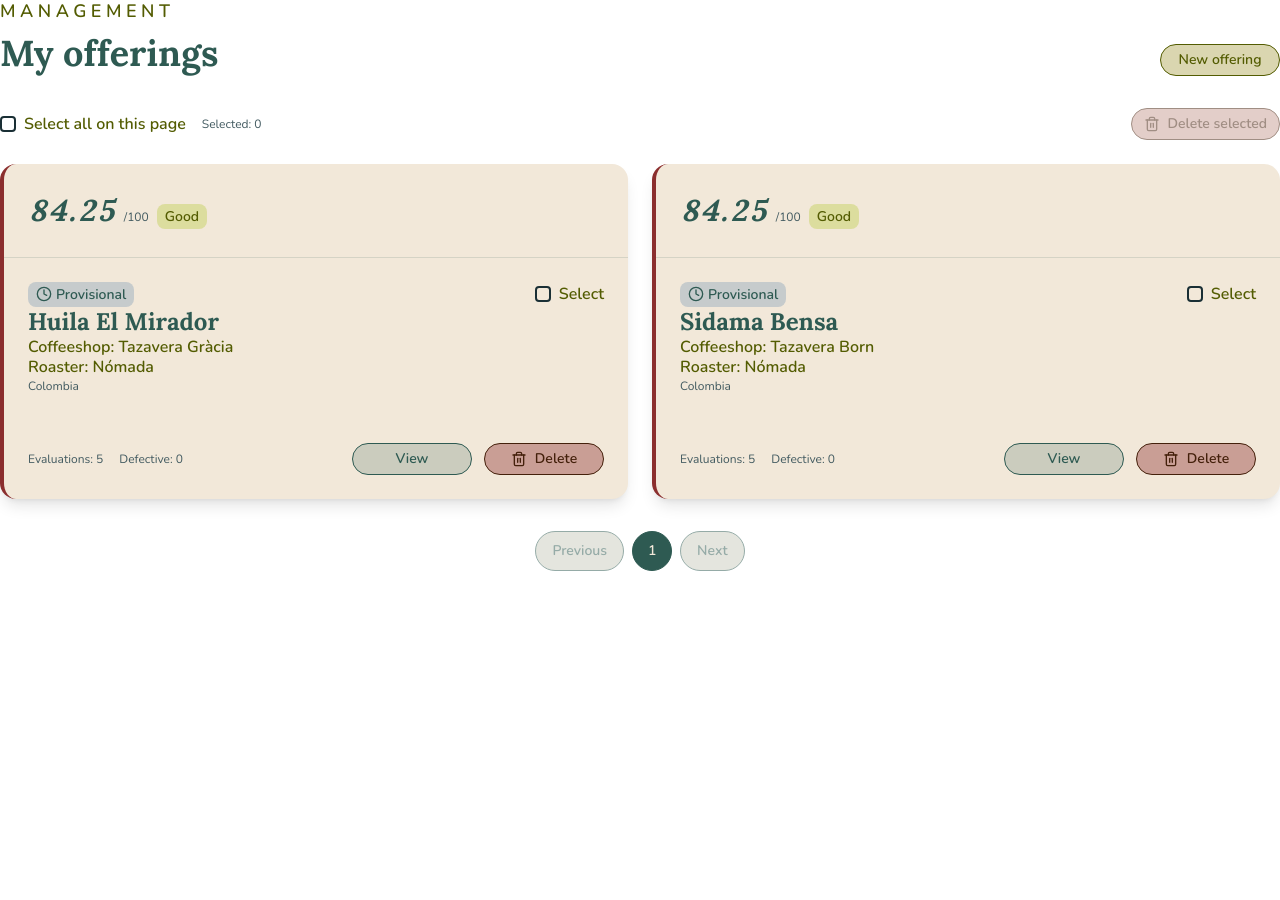
Test: ManageOfferingsPanel — deleting (spec 'Deleting offerings') › deletes the selection after confirmation, announces its count and empties the selection
Click the checkbox labelled "Select all on this page".
click(8, 124)  # box [0, 116, 16, 132]
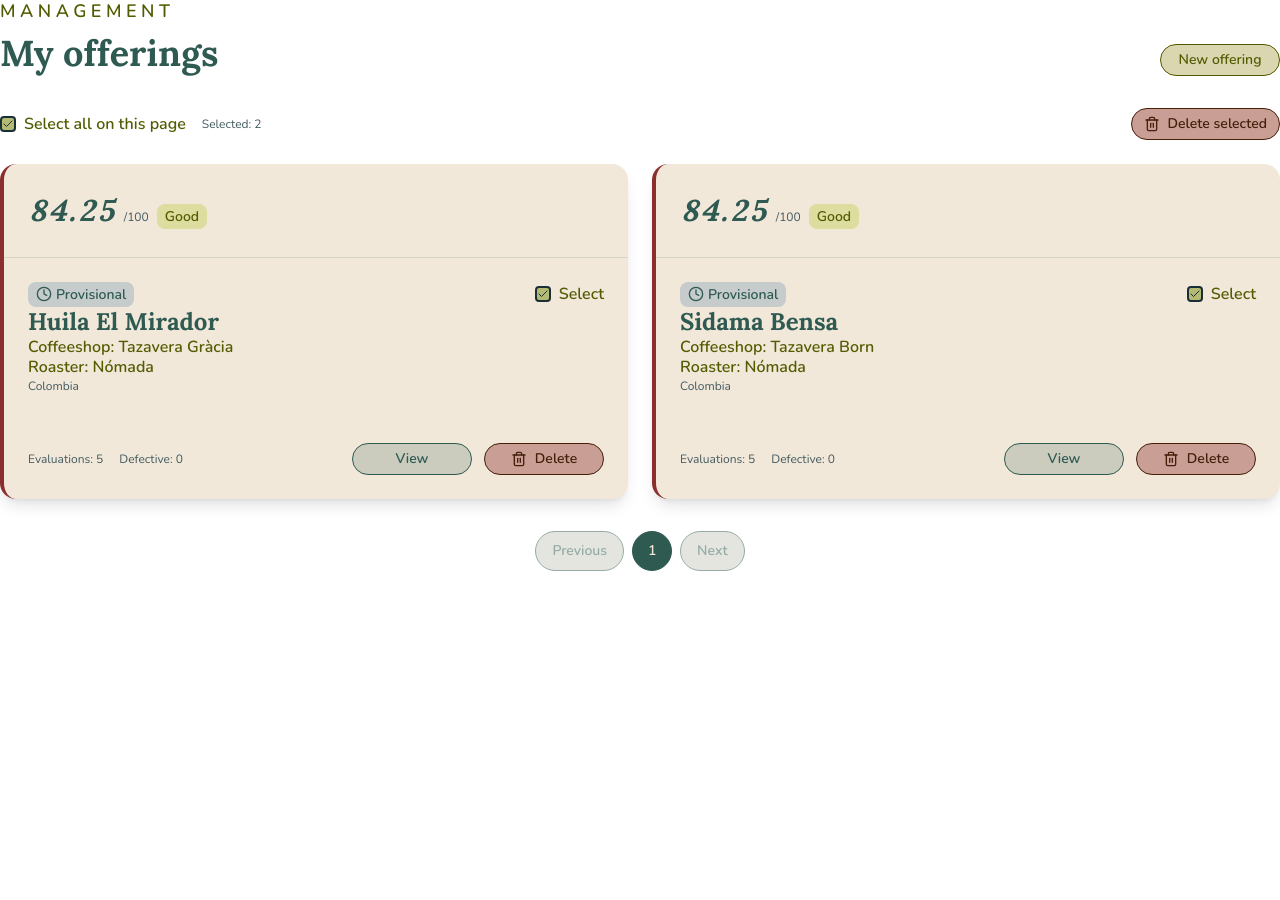
Click the button "Delete selected".
click(1205, 124)  # box [1131, 108, 1279, 140]
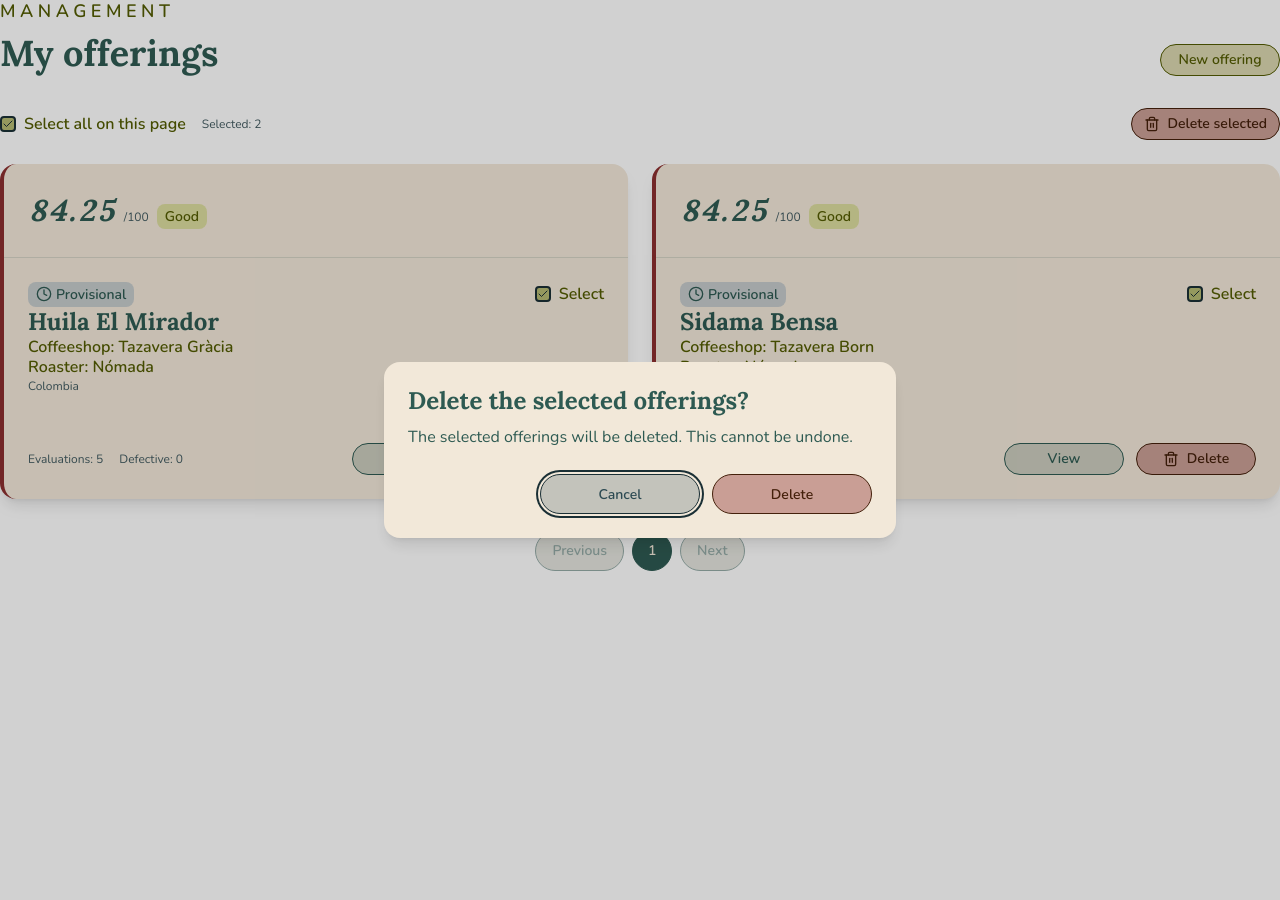
Expected: the dialog "Delete the selected offerings?" is shown, [384, 362, 896, 538]
Click the button "Delete".
click(792, 494)  # box [712, 474, 872, 514]
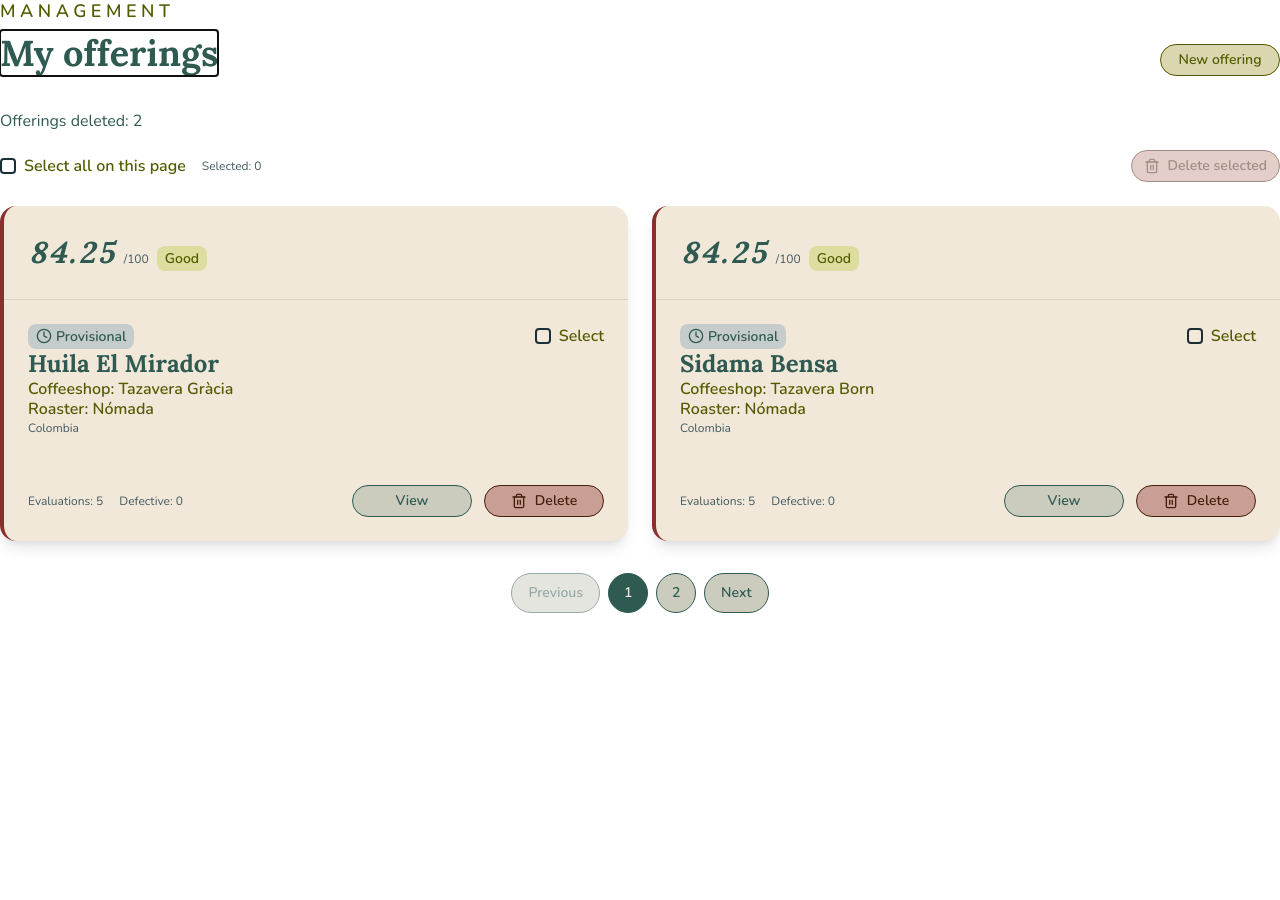
Expected: the message reads "Offerings deleted: 2", [0, 110, 142, 132]
Expected: the text "Selected: 0" is shown, [202, 156, 262, 174]
